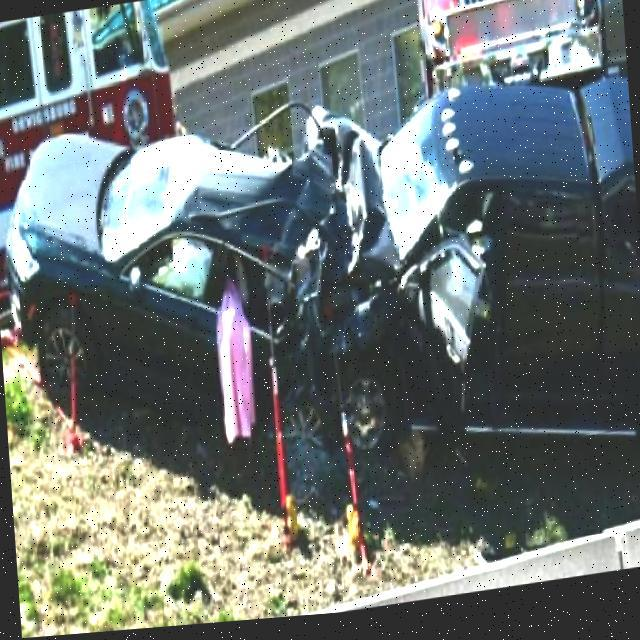Car Accident Detector - v4 Generation1 Exported: (11, 41, 640, 554)
